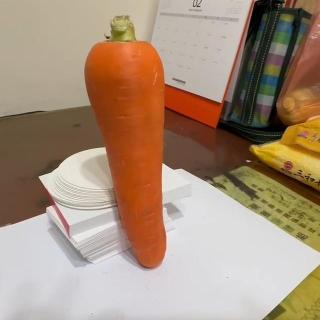carrot: (84, 15, 170, 268)
